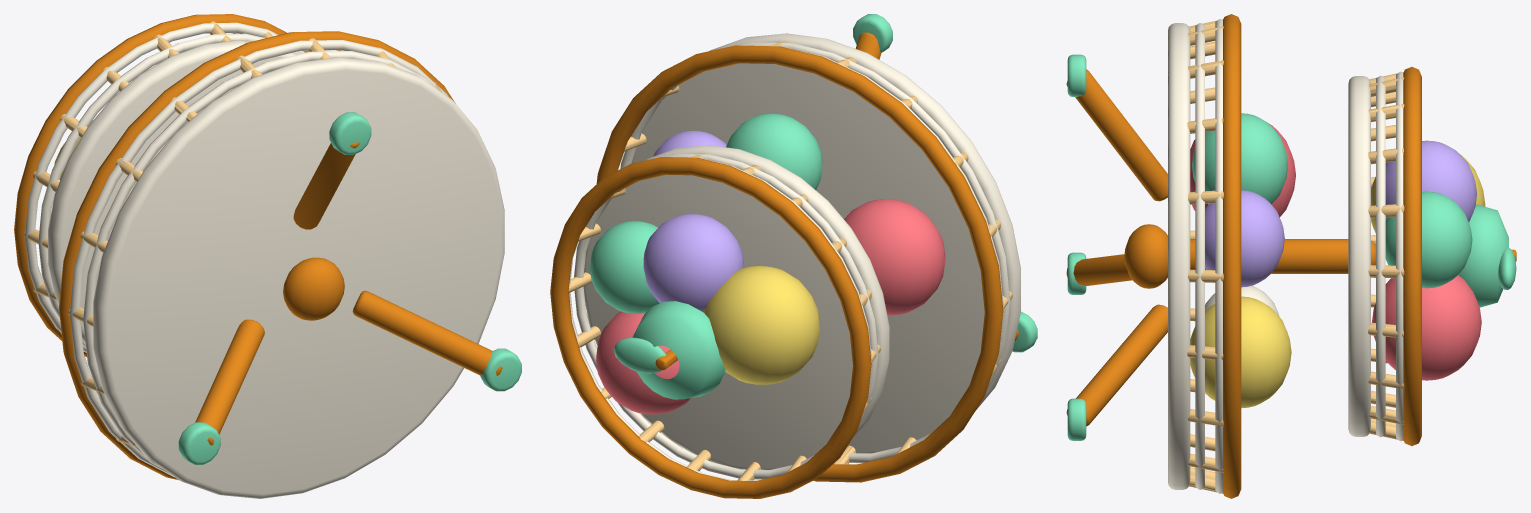
File: KitchenFruitBasket_Premium.fbx
3 renders of one model, left to right at view 1: azimuth 30°, elevation 25°; view 2: azimuth 150°, elevation 25°; view 3: azimuth 270°, elevation 25°, orthographic. The views are drawn at different scales.
Parts seen in each view (by area): view 1: KitchenFruitBasket; view 2: KitchenFruitBasket; view 3: KitchenFruitBasket.
Boxes of the visible parts, box(x1,y1,x2,y2) form: KitchenFruitBasket: box(14, 14, 521, 498); KitchenFruitBasket: box(550, 14, 1037, 498); KitchenFruitBasket: box(1066, 14, 1516, 498).
Bounding box in the file's own units: 0.782 × 0.7777 × 0.7229.
